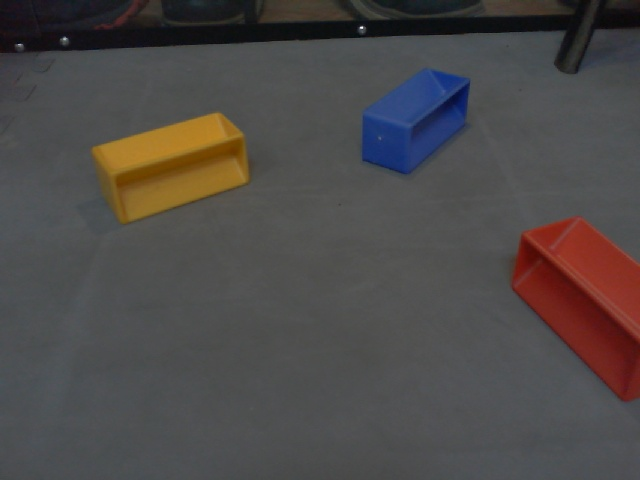BlueSample: (360, 67, 472, 179)
RedSample: (510, 215, 640, 404)
YellowSample: (87, 109, 251, 226)
